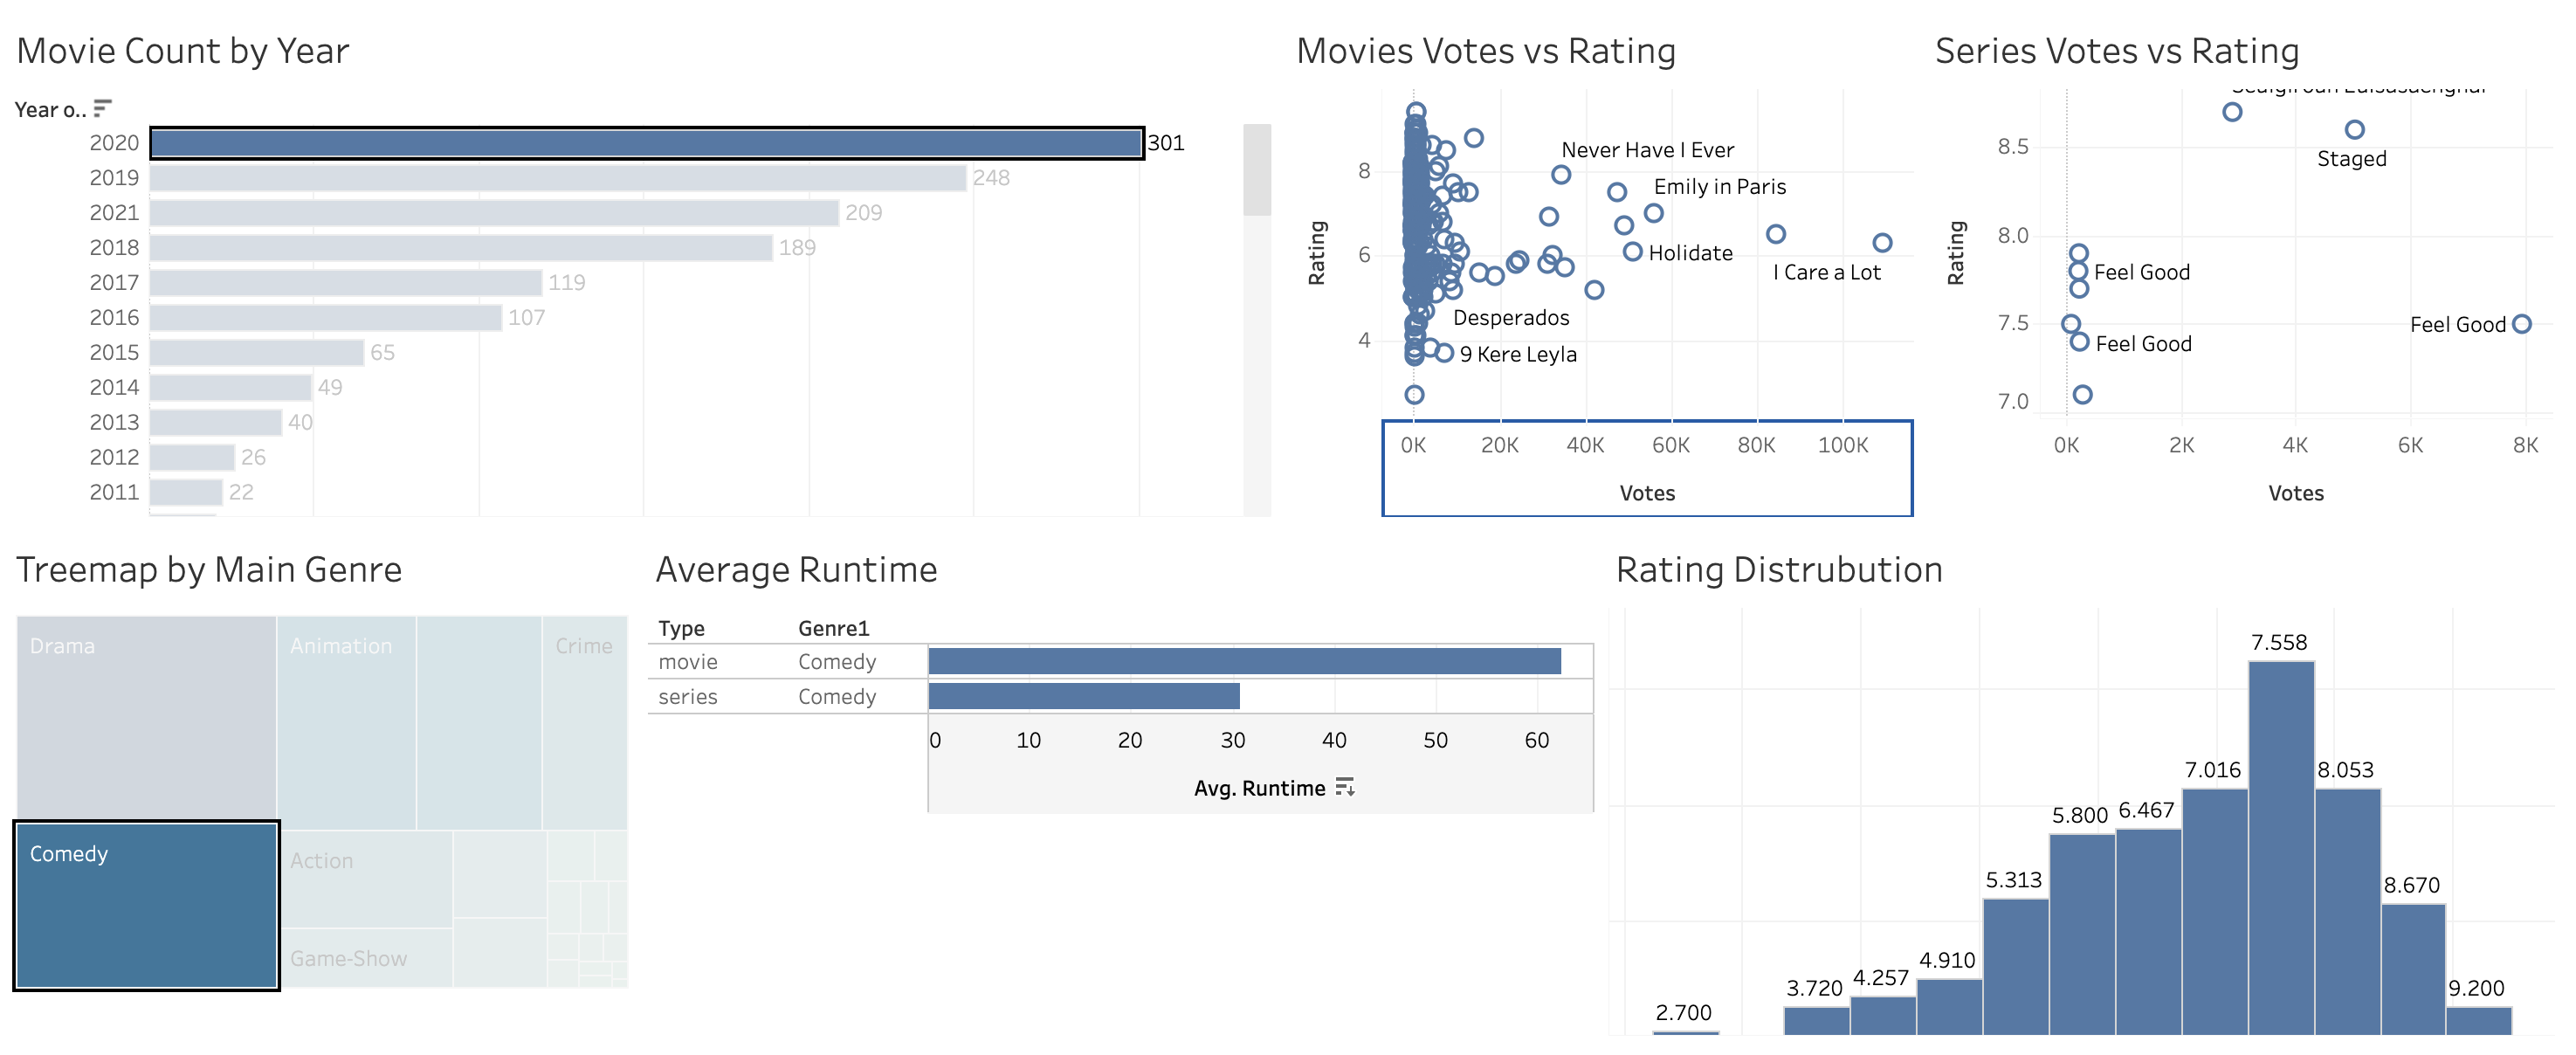

The page's visual inventory and layout, read from the dashboard file:
{"tool":"tableau","page":{"name":"Movies","canvas":[1000,1000],"units":"permille","ordinal":0},"visuals":[{"type":"worksheet","title":"Movie Count by Year","mark":"Bar","rows":["start_year"],"cols":["title"],"box":[6.2,11.7,493.9,488.3]},{"type":"worksheet","title":"Movies Votes vs Rating","mark":"Automatic","rows":["rating"],"cols":["votes"],"box":[500,11.7,246.9,488.3]},{"type":"worksheet","title":"Series Votes vs Rating","mark":"Automatic","rows":["rating"],"cols":["votes"],"box":[746.9,11.7,246.9,488.3]},{"type":"worksheet","title":"Treemap by Main Genre","mark":"Automatic","box":[6.2,500,246.9,488.3]},{"type":"worksheet","title":"Average Runtime","mark":"Automatic","rows":["type","genre1"],"cols":["runtime"],"box":[253.1,500,370.4,488.3]},{"type":"worksheet","title":"Rating Distrubution","mark":"Automatic","rows":["rating"],"cols":["Rating (bin)"],"box":[623.5,500,370.4,488.3]}]}

Visuals, with their boxes on the dashboard's canvas, which has no fixed pixel size, in thousandths of its width and height (x1, y1, x2, y2). These are canvas units, not pixel positions in the 2576x1055 screenshot, which may show the page scaled, cropped or inside an application window:
"Movie Count by Year" worksheet (Bar marks): [6,12,500,500]
"Movies Votes vs Rating" worksheet: [500,12,747,500]
"Series Votes vs Rating" worksheet: [747,12,994,500]
"Treemap by Main Genre" worksheet: [6,500,253,988]
"Average Runtime" worksheet: [253,500,624,988]
"Rating Distrubution" worksheet: [624,500,994,988]
